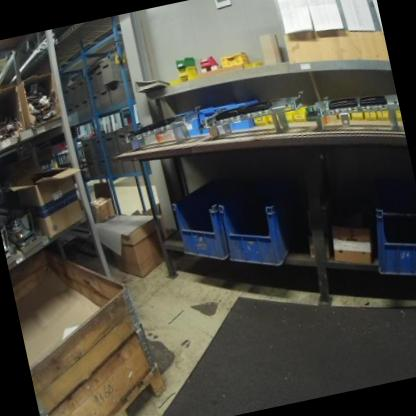pallet: (59, 357, 173, 416)
small_load_carrier: (163, 164, 268, 270), (214, 178, 316, 278), (362, 186, 416, 289)
